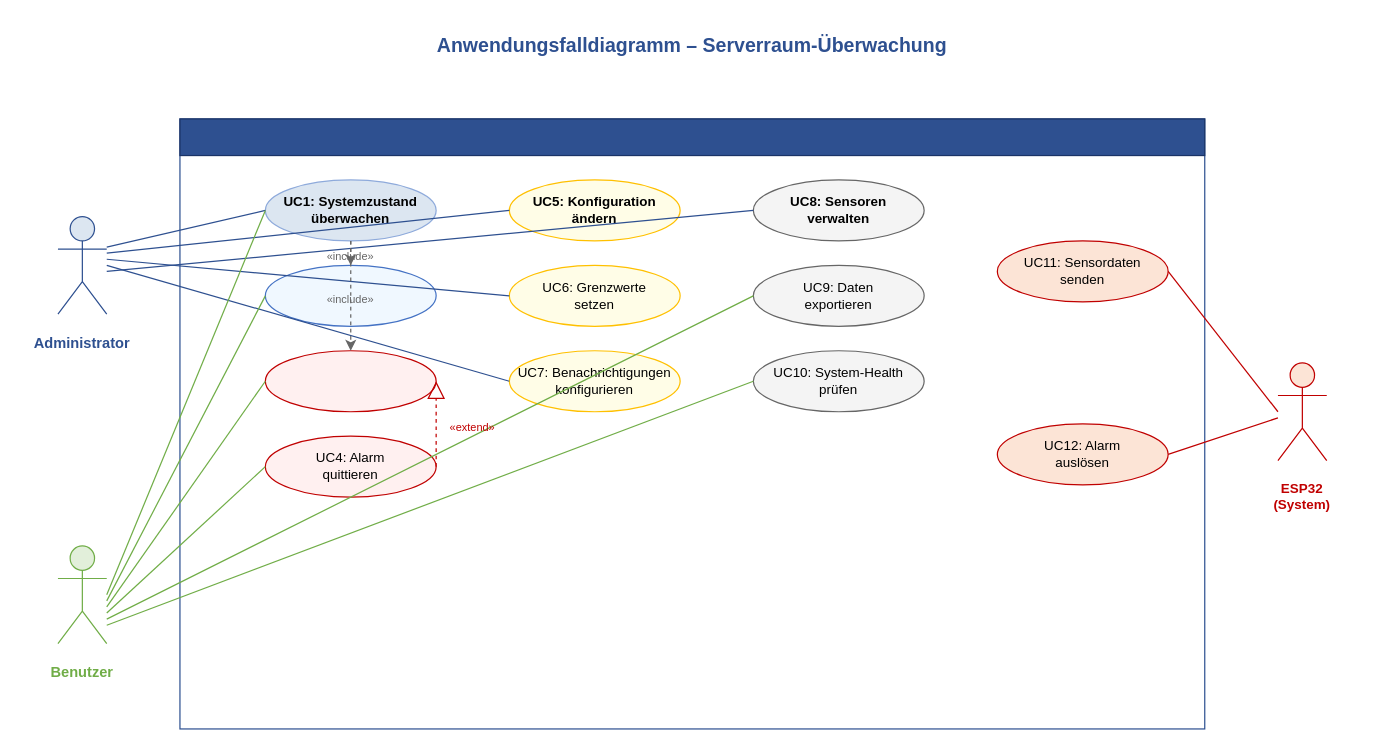
This 1377x750 diagram has some shape labels left out. The shapes that lost their labels are listed below. From the top down, each one's box as (x1, y1, x2, y2) in pixels, then its label:
(179, 118, 1205, 156): System: Serverraum-Überwachung
(264, 264, 436, 326): UC2: Sensordaten abrufen
(264, 350, 436, 412): UC3: Alarme anzeigen
